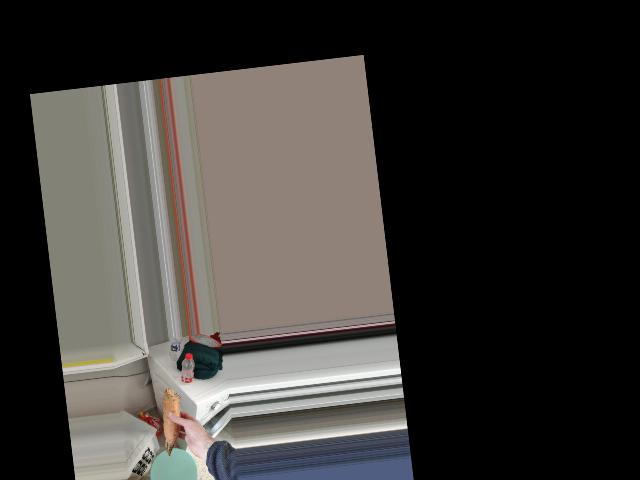sweet_potato: (160, 384, 183, 457)
